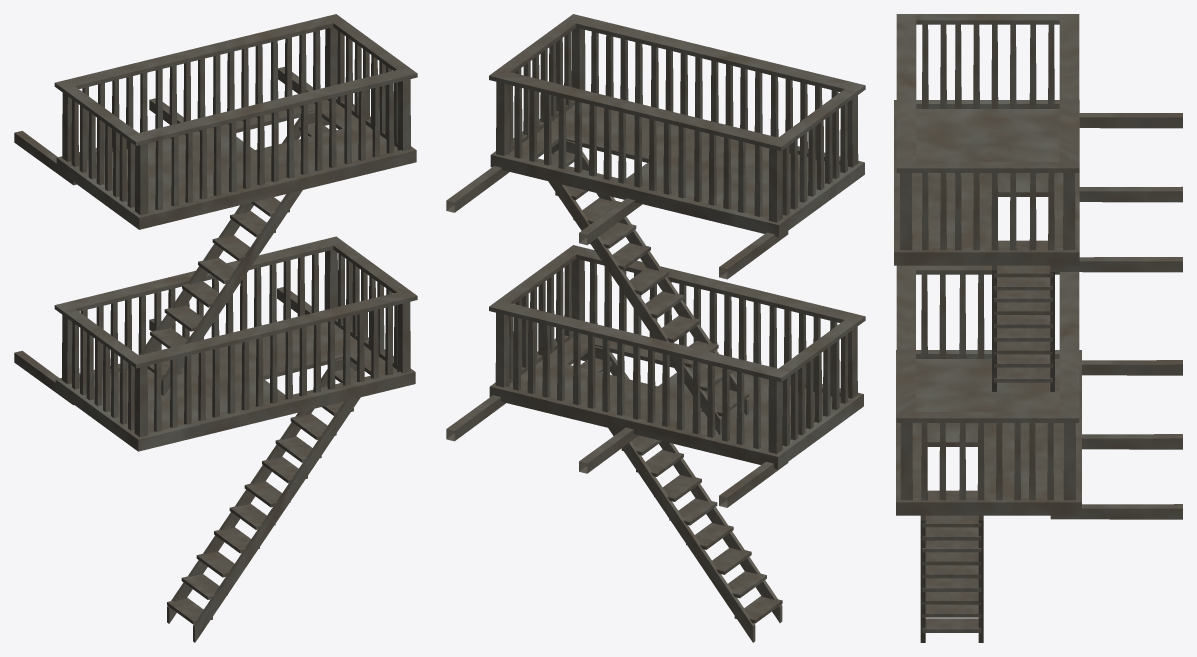
File: Fire_Escape_Stair_Modular_Piece.fbx
3 views of the same model, side by side, from view 1: azimuth 30°, elevation 25°; view 2: azimuth 150°, elevation 25°; view 3: azimuth 270°, elevation 25° (orthographic). The views are drawn at different scales.
Visible parts, largest first — view 1: Fire_Escape_Ladders_Repeat; view 2: Fire_Escape_Ladders_Repeat; view 3: Fire_Escape_Ladders_Repeat.
Boxes of the visible parts, <box> form: Fire_Escape_Ladders_Repeat: <box>14,14,417,642</box>; Fire_Escape_Ladders_Repeat: <box>446,14,865,642</box>; Fire_Escape_Ladders_Repeat: <box>894,14,1182,642</box>.
Bounding box in the file's own units: 414 × 739 × 328.
